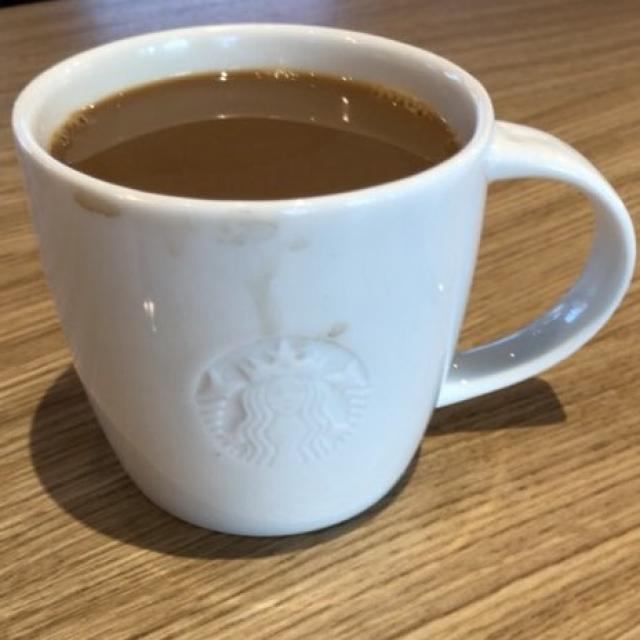coffee: (52, 71, 445, 198)
